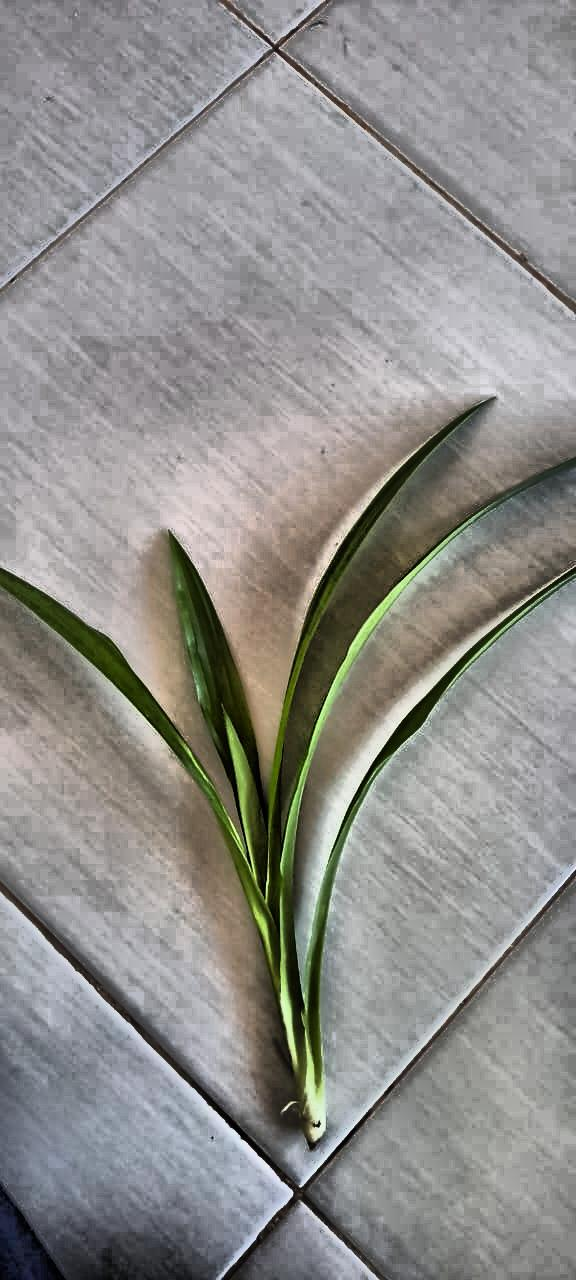daun pandan: (1, 406, 575, 1147)
